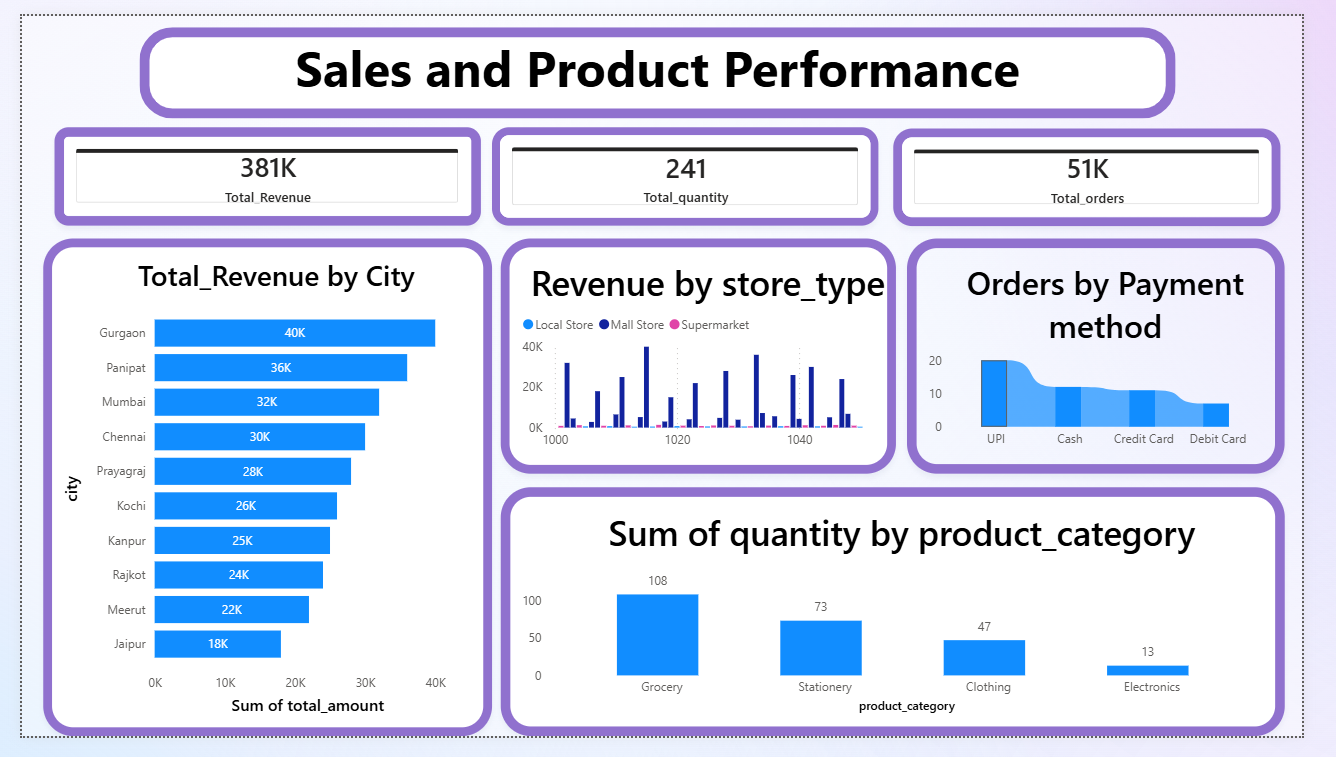

The page's visual inventory and layout, read from the dashboard file:
{"tool":"powerbi","page":{"name":"Sales and Product Performance","canvas":[1280,720],"ordinal":0},"visuals":[{"type":"areaChart","title":"Revenue by store_type","fields":{"Category":["Indian Retail Store.bill_id"],"Y":["Sum(Indian Retail Store.total_amount)"],"Series":["Indian Retail Store.store_type"]},"box":[490,222.5,396.2,235],"z":0},{"type":"donutChart","fields":{"Category":["Indian Retail Store.payment_method"],"Y":["CountNonNull(Indian Retail Store.bill_id)"]},"box":[895,222.5,375,235],"z":1000},{"type":"clusteredColumnChart","fields":{"Y":["Sum(Indian Retail Store.quantity)"],"Category":["Indian Retail Store.product_category"]},"box":[490,471.2,780,248.8],"z":2000},{"type":"clusteredBarChart","title":"Total_Revenue by City","fields":{"Category":["Indian Retail Store.city"],"Y":["Sum(Indian Retail Store.total_amount Hierarchy.total_amount)","Sum(Indian Retail Store.total_amount Hierarchy.total_amount)"]},"box":[10,222.5,470,497.5],"z":3000},{"type":"shape","box":[196.2,0,833.8,101.2],"z":4000},{"type":"cardVisual","fields":{"Data":["Sum(Indian Retail Store.quantity)"]},"box":[465,112.5,386.2,98.8],"z":5000},{"type":"cardVisual","fields":{"Data":["Sum(Indian Retail Store.bill_id)"]},"box":[871.2,112.5,387.5,97.5],"z":6000},{"type":"cardVisual","fields":{"Data":["Sum(Indian Retail Store.total_amount)"]},"box":[21.2,112.5,426.2,98.8],"z":7000}]}

Visuals, with their boxes in screenshot pixels (x1, y1, x2, y2), scaled from the page's 1280x720 canvas onto the 1336x757 screenshot:
"Revenue by store_type" areaChart: Rect(511, 234, 925, 481)
donutChart - Indian Retail Store.payment_method x CountNonNull(Indian Retail Store.bill_id): Rect(934, 234, 1326, 481)
clusteredColumnChart - Sum(Indian Retail Store.quantity) x Indian Retail Store.product_category: Rect(511, 495, 1326, 756)
"Total_Revenue by City" clusteredBarChart: Rect(10, 234, 501, 756)
shape: Rect(205, 0, 1075, 106)
cardVisual - Sum(Indian Retail Store.quantity): Rect(485, 118, 888, 222)
cardVisual - Sum(Indian Retail Store.bill_id): Rect(909, 118, 1314, 221)
cardVisual - Sum(Indian Retail Store.total_amount): Rect(22, 118, 467, 222)
